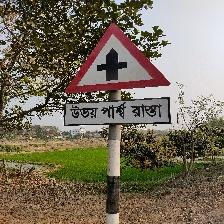Crossroad: (63, 21, 173, 131)
